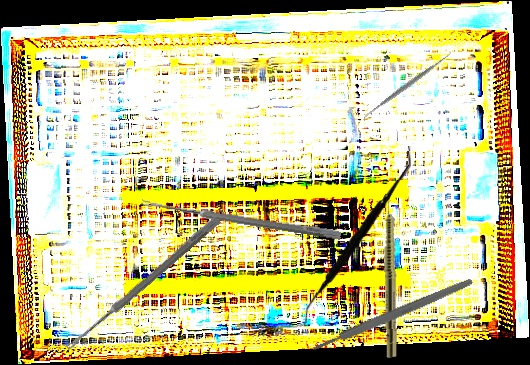Handpiece: (383, 185, 399, 358)
Scalpel Handle: (310, 276, 475, 354)
Spatula Surgical: (302, 142, 412, 331), (358, 48, 456, 124)
Surgical Spoon: (64, 214, 221, 354), (140, 198, 342, 240)
